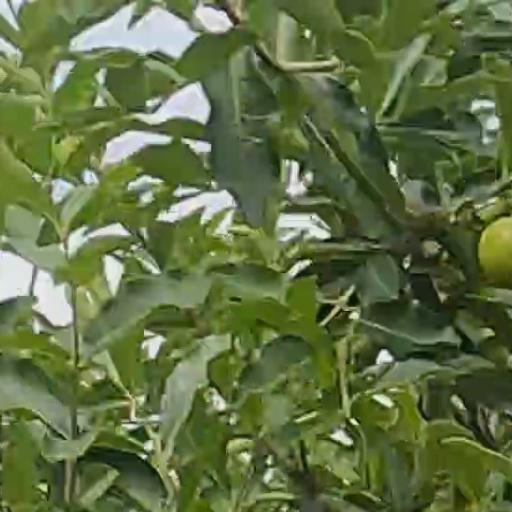acerola_verde: (478, 215, 512, 285)
